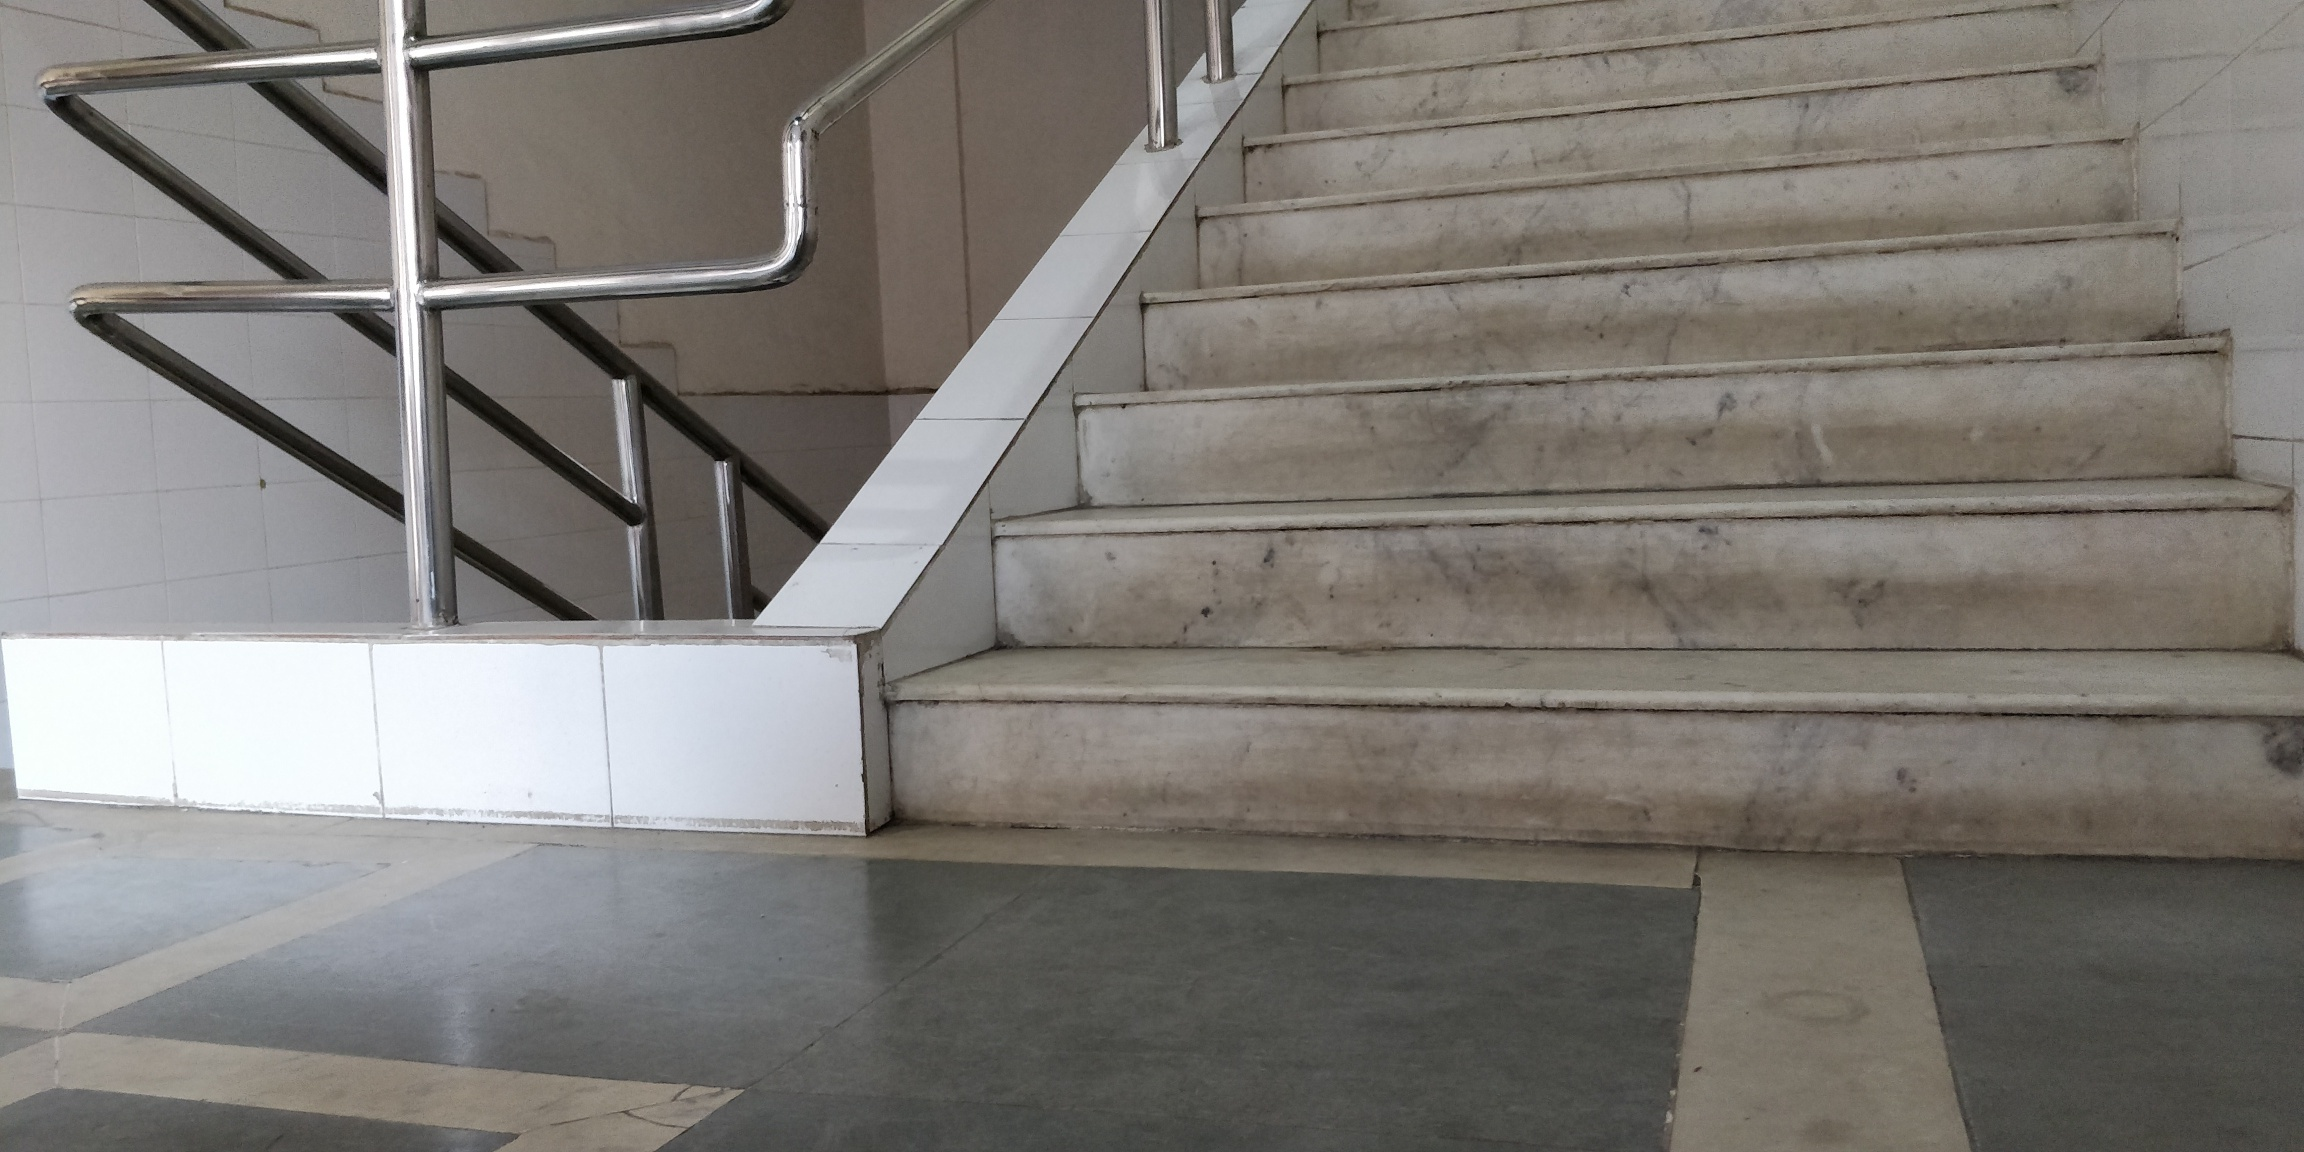stairs_up: (879, 9, 2295, 890)
